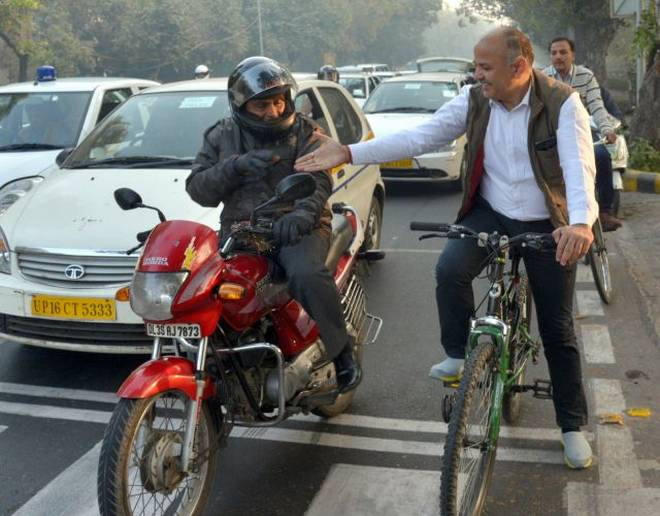helmet: (229, 55, 299, 141)
